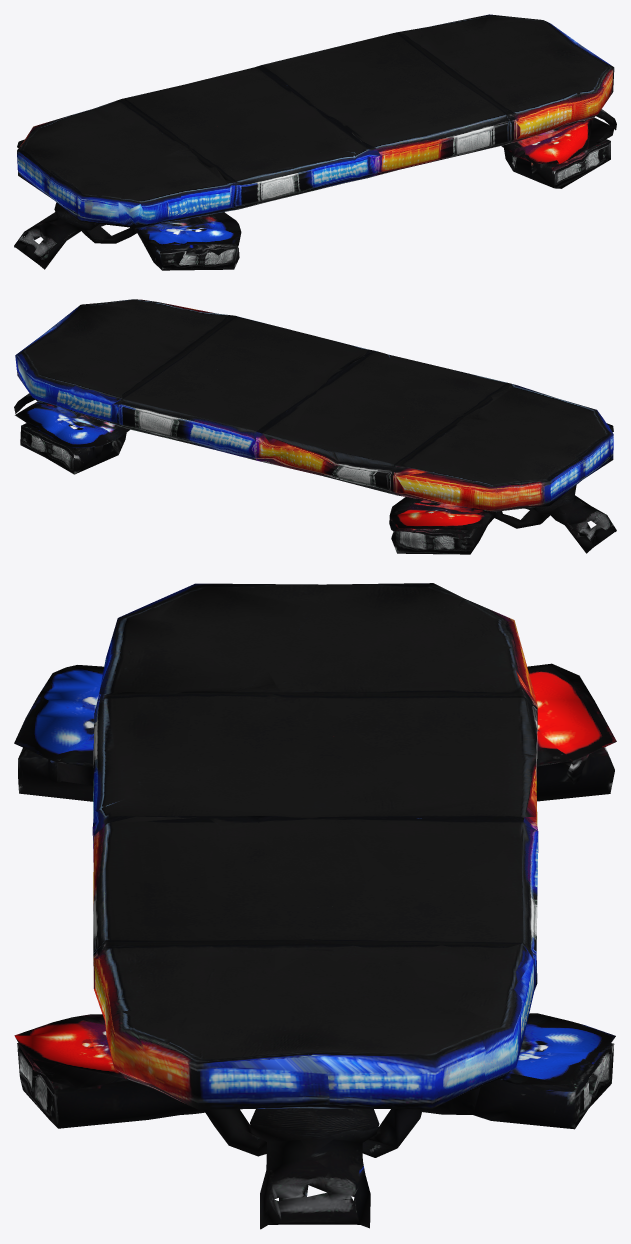
File: police_light_bar_us.obj
3 views of the same model, one above another, from view 1: azimuth 30°, elevation 25°; view 2: azimuth 150°, elevation 25°; view 3: azimuth 270°, elevation 25° (orthographic). The views are drawn at different scales.
Visible parts, largest first — view 1: police_light_bar_us; view 2: police_light_bar_us; view 3: police_light_bar_us.
Part boxes in pixels (x1,y1,x2,y2): police_light_bar_us: [14, 14, 616, 270]; police_light_bar_us: [14, 299, 616, 554]; police_light_bar_us: [14, 583, 616, 1229].
Bounding box in the file's own units: 1.9 × 0.2627 × 0.9237.
